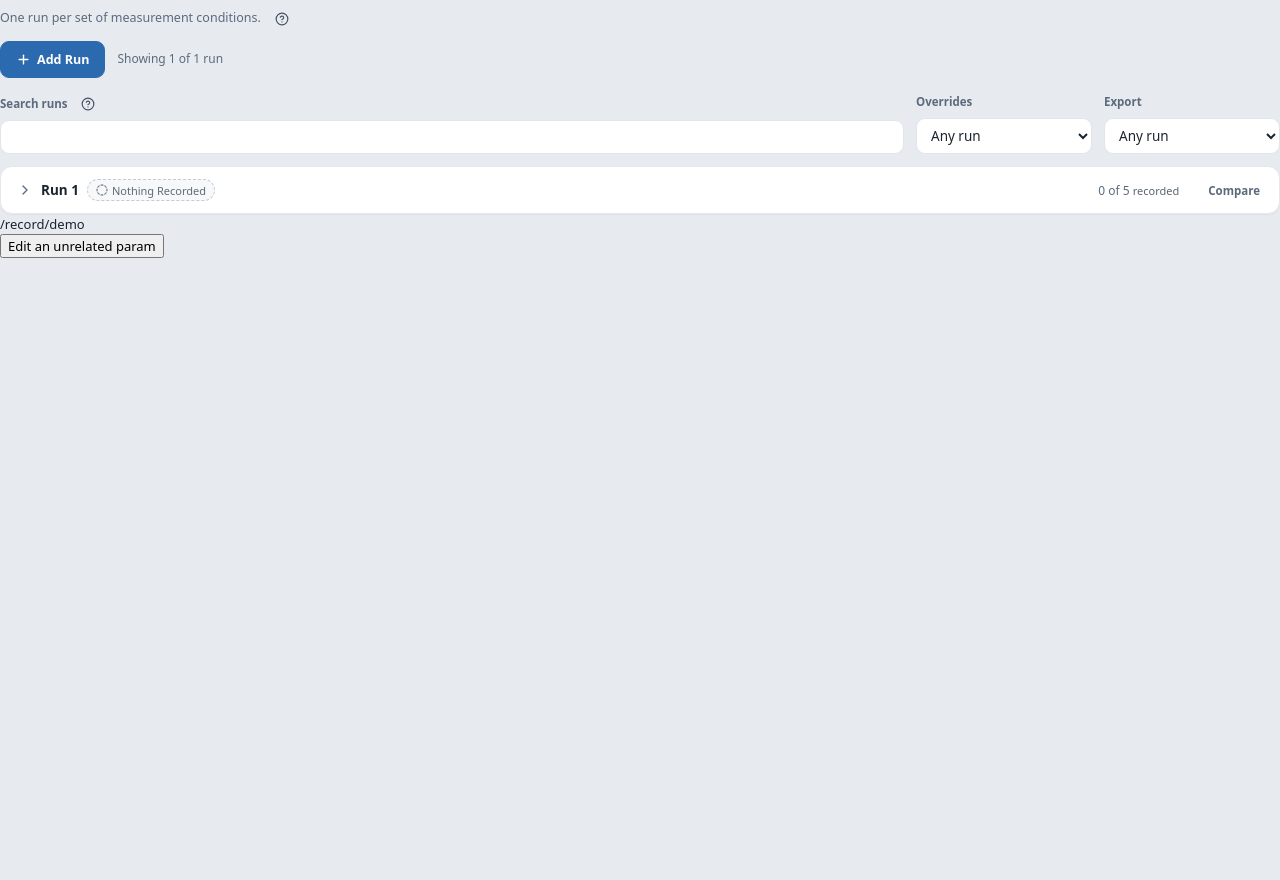
the confirmation › names what goes and what does not, and never claims a file was deleted
Check: the text "Showing 1 of 1 run" is shown, box top-left (117, 50), bottom-right (223, 69)
Click the button named "Open " at (33, 199), box top-left (1, 167), bottom-right (1195, 213)
(page scrolled)
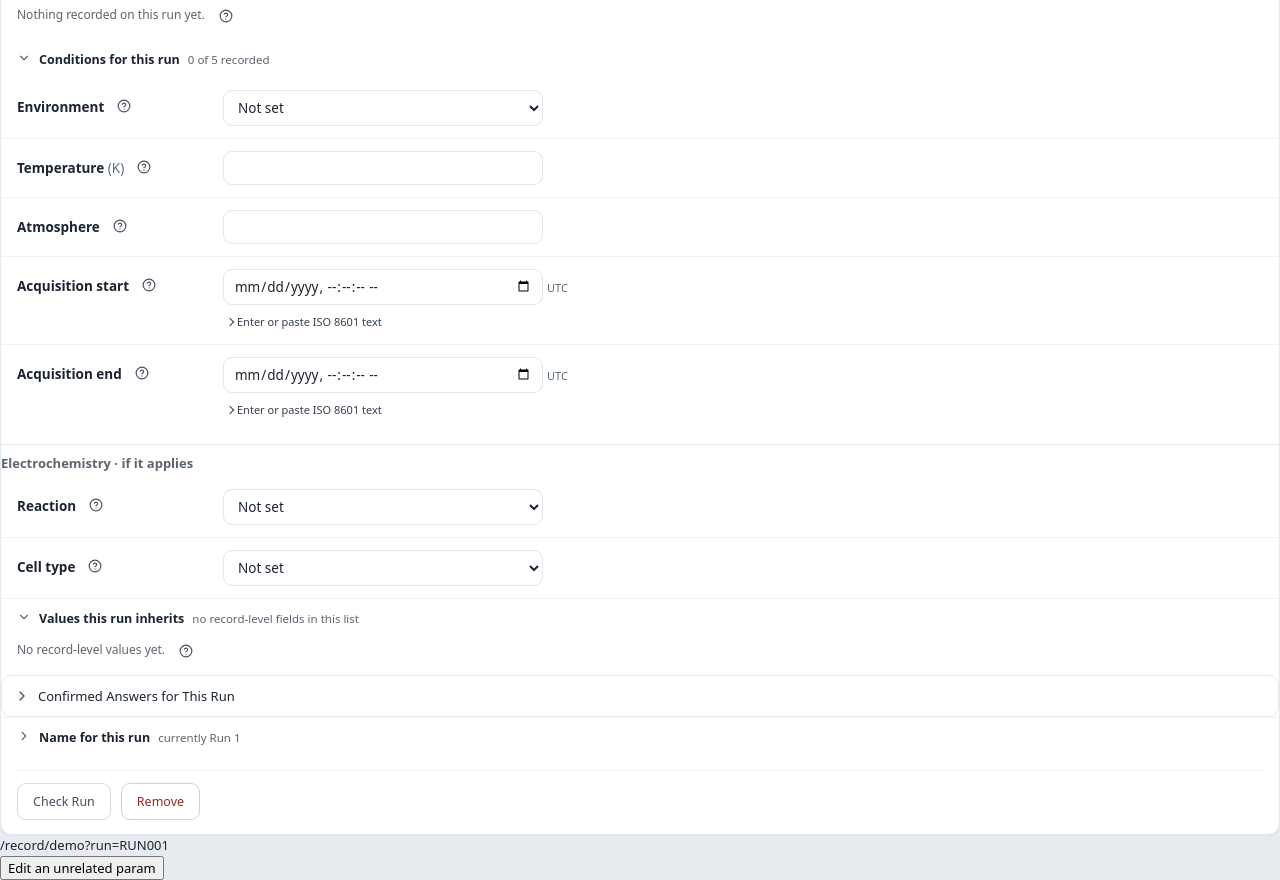
Click the button with aria-label "Remove run Run 1 from this record" at (160, 802), box top-left (121, 783), bottom-right (200, 820)
(page scrolled)
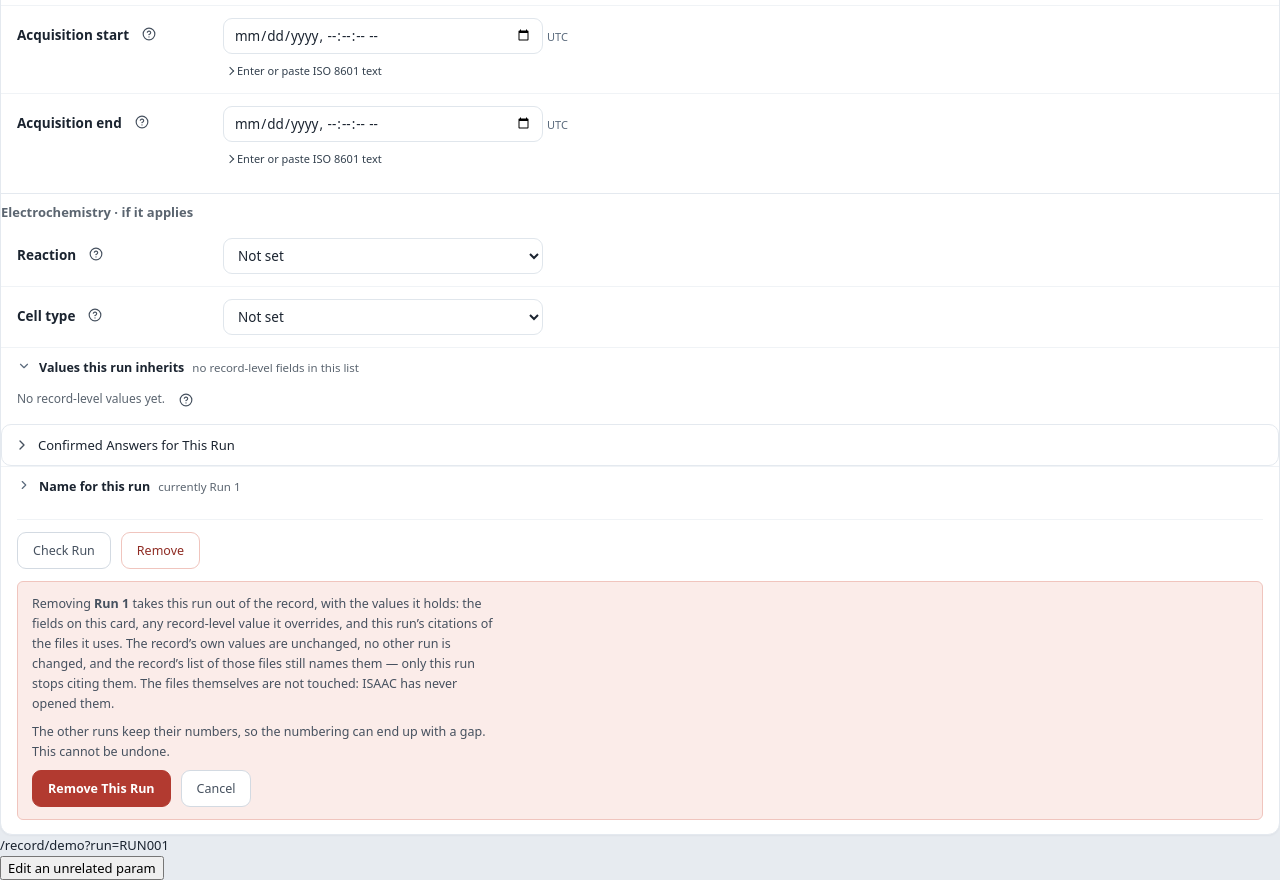
Check: the element with class "run-card-remove" shows "The record’s own values are unchanged", box top-left (32, 595), bottom-right (493, 712)
Check: the element with class "run-card-remove" shows "no other run is changed", box top-left (32, 595), bottom-right (493, 712)
Check: the element with class "run-card-remove" shows "files themselves are not touched", box top-left (32, 595), bottom-right (493, 712)
